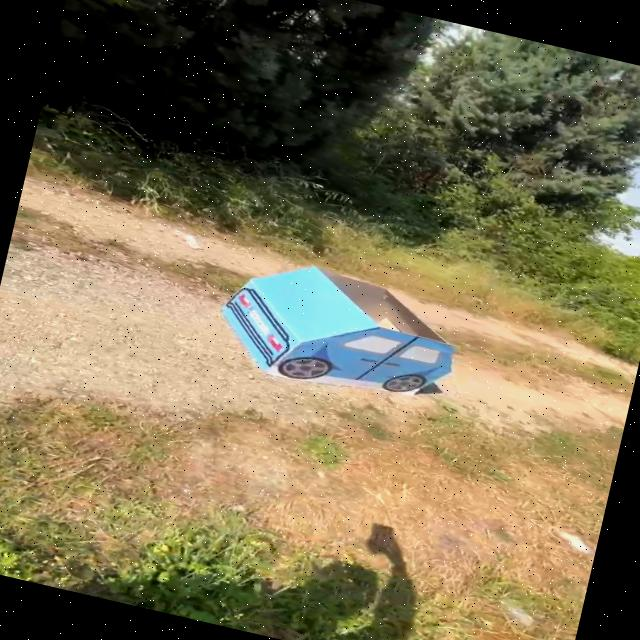blue_car: (185, 240, 478, 423)
